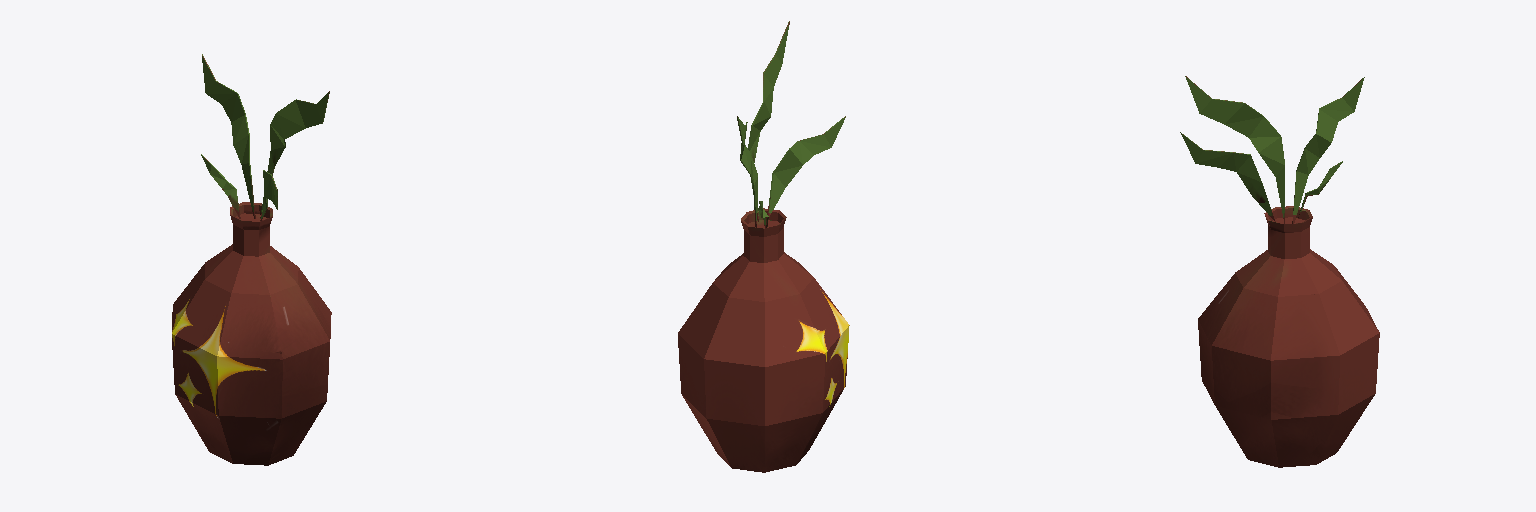
3 views of the same model, side by side, from view 1: azimuth 30°, elevation 25°; view 2: azimuth 150°, elevation 25°; view 3: azimuth 270°, elevation 25° (orthographic).
Visible parts, largest first — view 1: Planta2; view 2: Planta2; view 3: Planta2.
Boxes of the visible parts, x1=… form: Planta2: x1=172, y1=54, x2=331, y2=465; Planta2: x1=678, y1=21, x2=849, y2=472; Planta2: x1=1180, y1=76, x2=1379, y2=467.
Bounding box in the file's own units: 0.1871 × 0.4871 × 0.2278.
1 materials, 1 textured.